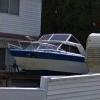Boat: (7, 26, 85, 77)
